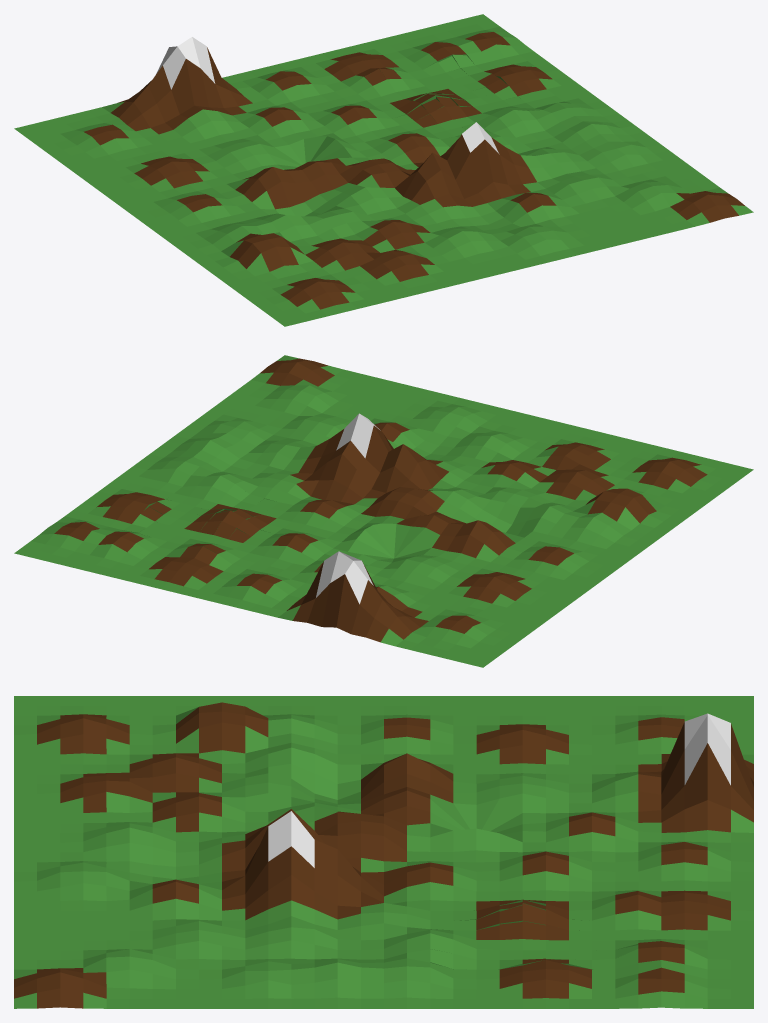
The model's file is terrain.fbx.
3 renders of one model, top to bottom at view 1: azimuth 30°, elevation 25°; view 2: azimuth 150°, elevation 25°; view 3: azimuth 270°, elevation 25°, orthographic. The views are drawn at different scales.
Parts seen in each view (by area): view 1: Plane; view 2: Plane; view 3: Plane.
Part boxes in pixels (x1,y1,x2,y2): Plane: (14, 14, 753, 326); Plane: (14, 355, 753, 667); Plane: (14, 696, 753, 1008).
Bounding box in the file's own units: 13.18 × 2.06 × 13.18.
